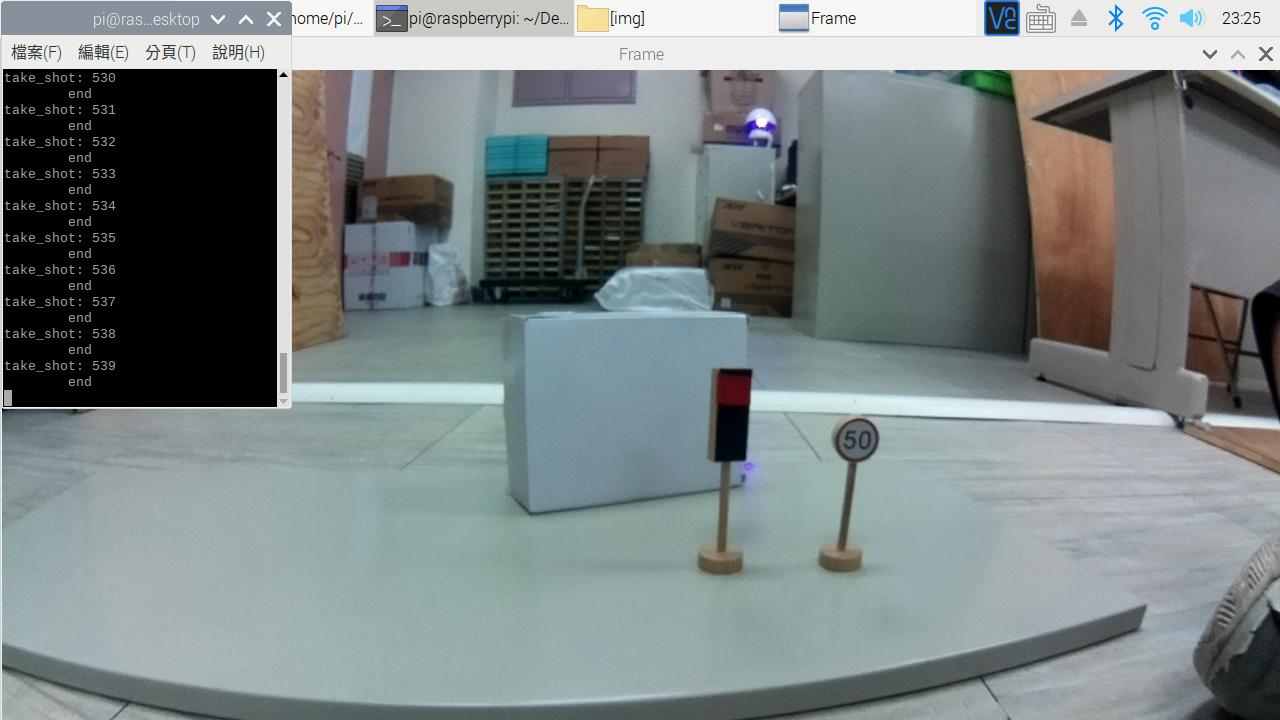Red: (699, 356, 759, 472)
Speed50: (821, 409, 905, 475)
